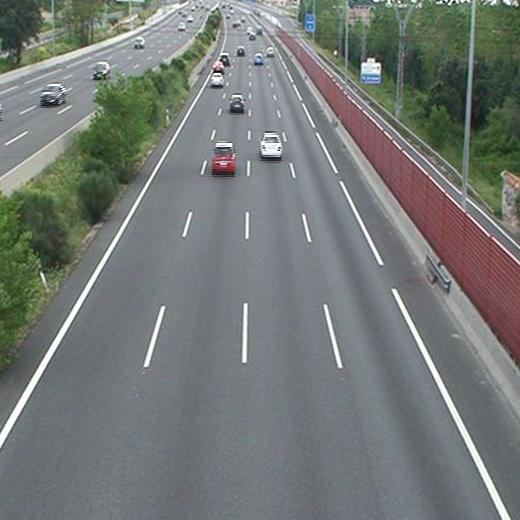car: (212, 143, 235, 171), (260, 134, 282, 157), (230, 95, 244, 111), (211, 73, 223, 87), (211, 61, 223, 72), (253, 53, 263, 63), (219, 53, 229, 63), (266, 46, 274, 56), (235, 47, 244, 55)
